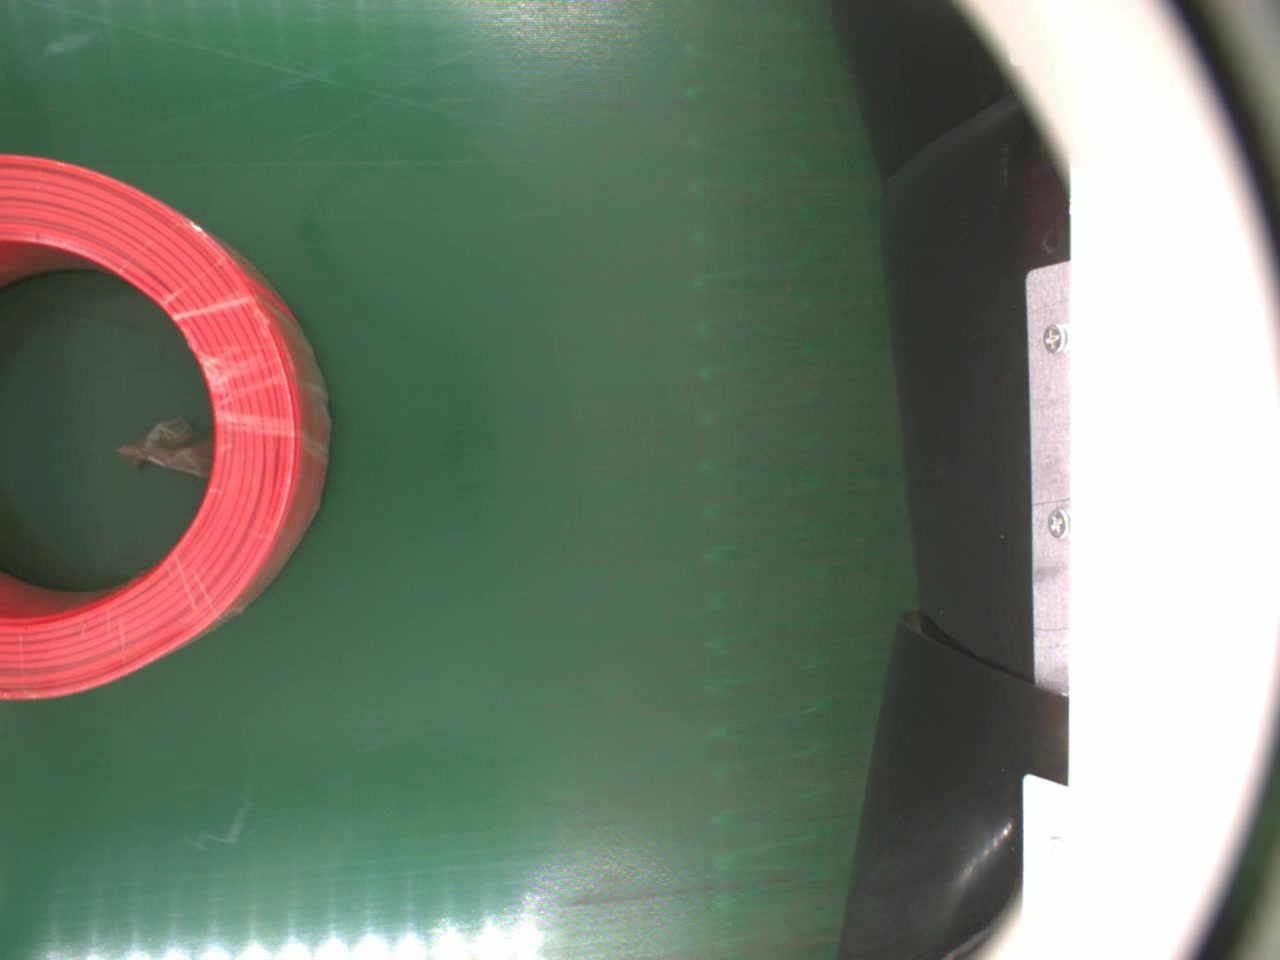red: (0, 150, 335, 701)
